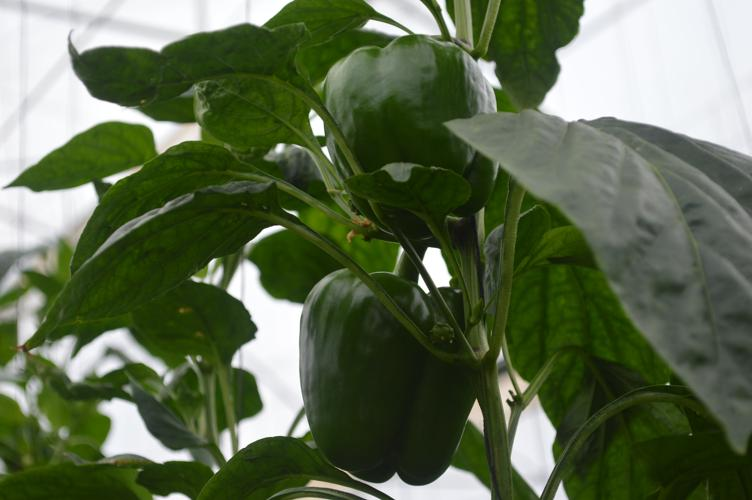BellPepper: (295, 265, 483, 489), (314, 39, 509, 239)
